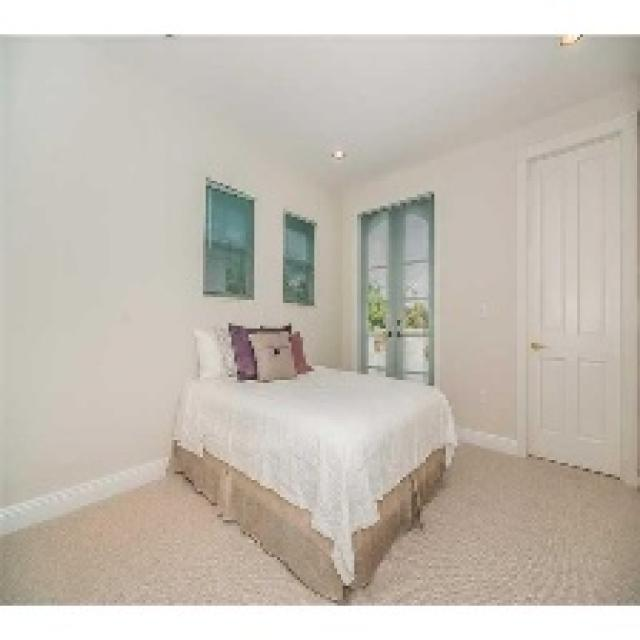Bed: (169, 363, 457, 600)
